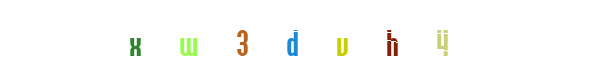3: (253, 0, 333, 80)
4: (315, 0, 395, 80)
D: (267, 0, 347, 80)
H: (302, 0, 382, 80)
V: (285, 0, 365, 80)
W: (142, 0, 222, 80)
X: (95, 0, 175, 80)
